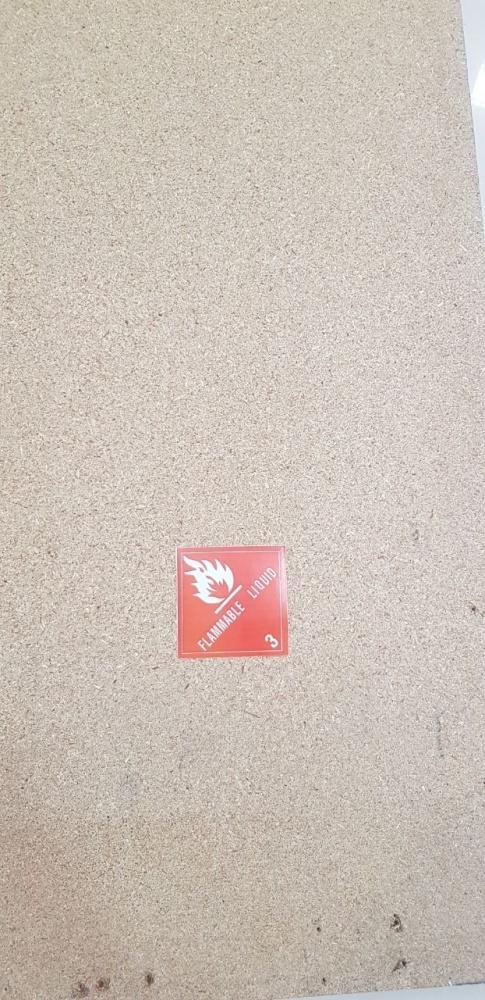flammable: (175, 545, 290, 658)
